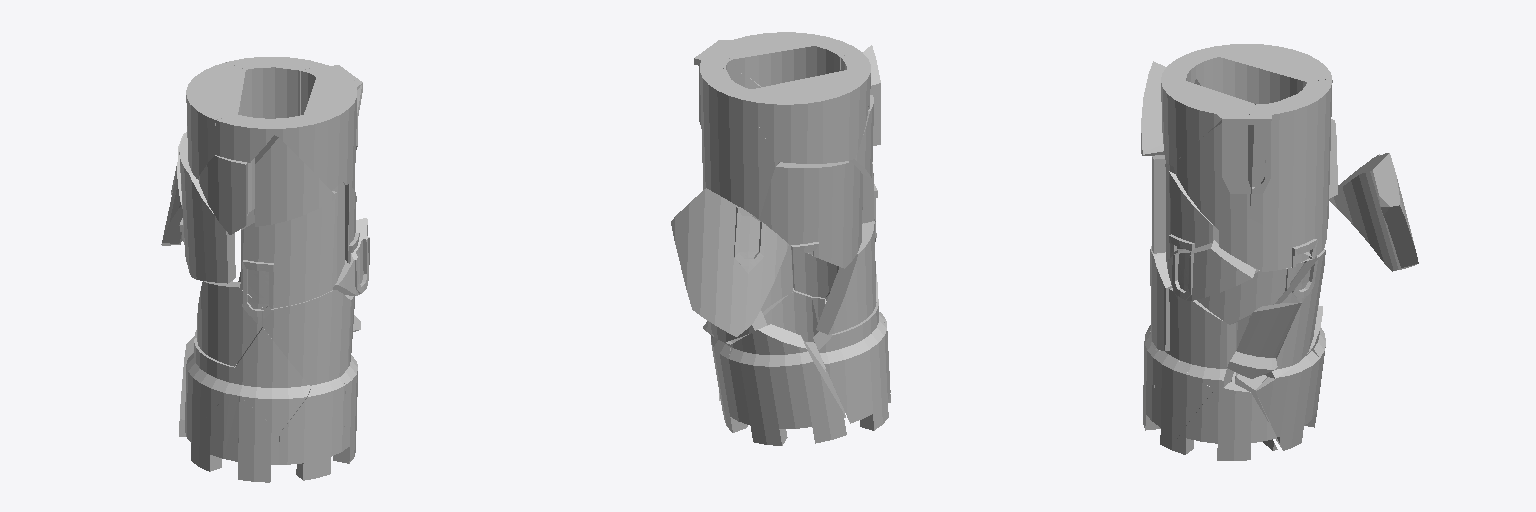
Rendered from destruction_tower_000027.obj.
3 renders of one model, left to right at view 1: azimuth 30°, elevation 25°; view 2: azimuth 150°, elevation 25°; view 3: azimuth 270°, elevation 25°, orthographic.
Visible parts, largest first — view 1: tower.001_cell.024_Mesh.024, tower.001_cell.021_Mesh.021, tower.001_cell.028_Mesh.028, tower.001_cell.006_Mesh.006, tower.001_cell.011_Mesh.011, tower.001_cell.002_Mesh.002, tower.001_cell.013_Mesh.013, tower.001_cell.003_Mesh.003, tower.001_cell.009_Mesh.009, tower.001_cell.017_Mesh.017, tower.001_cell.015_Mesh.015, tower.001_cell.014_Mesh.014 (+9 smaller); view 2: tower.001_cell.025_Mesh.025, tower.001_cell.007_Mesh.007, tower.001_cell.015_Mesh.015, tower.001_cell.003_Mesh.003, tower.001_cell.017_Mesh.017, tower.001_cell.028_Mesh.028, tower.001_cell.005_Mesh.005, tower.001_cell.009_Mesh.009, tower.001_cell.023_Mesh.023, tower.001_cell.021_Mesh.021, tower.001_cell.029_Mesh.029, tower.001_cell.006_Mesh.006 (+7 smaller); view 3: tower.001_cell.017_Mesh.017, tower.001_cell.020_Mesh.020, tower.001_cell.025_Mesh.025, tower.001_cell.015_Mesh.015, tower.001_cell.028_Mesh.028, tower.001_cell.030_Mesh.030, tower.001_cell_Mesh, tower.001_cell.029_Mesh.029, tower.001_cell.010_Mesh.010, tower.001_cell.023_Mesh.023, tower.001_cell.026_Mesh.026, tower.001_cell.016_Mesh.016 (+11 smaller).
Part boxes in pixels (x1,y1,x2,y2): tower.001_cell.024_Mesh.024: (240, 191, 336, 309); tower.001_cell.021_Mesh.021: (263, 290, 351, 387); tower.001_cell.028_Mesh.028: (268, 77, 362, 190); tower.001_cell.006_Mesh.006: (190, 392, 279, 482); tower.001_cell.011_Mesh.011: (279, 380, 345, 480); tower.001_cell.002_Mesh.002: (254, 135, 335, 226); tower.001_cell.013_Mesh.013: (234, 327, 310, 432); tower.001_cell.003_Mesh.003: (179, 132, 235, 283); tower.001_cell.009_Mesh.009: (197, 281, 263, 366); tower.001_cell.017_Mesh.017: (226, 57, 324, 215); tower.001_cell.015_Mesh.015: (186, 62, 245, 178); tower.001_cell.014_Mesh.014: (198, 155, 247, 234); tower.001_cell.025_Mesh.025: (671, 188, 788, 336); tower.001_cell.007_Mesh.007: (729, 324, 846, 445); tower.001_cell.015_Mesh.015: (746, 70, 868, 163); tower.001_cell.003_Mesh.003: (759, 161, 862, 268); tower.001_cell.017_Mesh.017: (700, 63, 779, 218); tower.001_cell.028_Mesh.028: (718, 32, 857, 86); tower.001_cell.005_Mesh.005: (813, 302, 887, 423); tower.001_cell.009_Mesh.009: (816, 221, 876, 334); tower.001_cell.023_Mesh.023: (764, 288, 824, 366); tower.001_cell.021_Mesh.021: (791, 246, 838, 297); tower.001_cell.029_Mesh.029: (711, 335, 745, 432); tower.001_cell.006_Mesh.006: (860, 321, 890, 430); tower.001_cell.017_Mesh.017: (1278, 79, 1332, 258); tower.001_cell.020_Mesh.020: (1173, 112, 1253, 229); tower.001_cell.025_Mesh.025: (1329, 153, 1418, 271); tower.001_cell.015_Mesh.015: (1219, 44, 1331, 103); tower.001_cell.028_Mesh.028: (1161, 63, 1255, 165); tower.001_cell.030_Mesh.030: (1170, 382, 1276, 460); tower.001_cell_Mesh: (1169, 288, 1235, 388); tower.001_cell.029_Mesh.029: (1255, 348, 1319, 450); tower.001_cell.010_Mesh.010: (1167, 240, 1255, 300); tower.001_cell.023_Mesh.023: (1154, 349, 1214, 448); tower.001_cell.026_Mesh.026: (1247, 102, 1277, 230); tower.001_cell.016_Mesh.016: (1227, 302, 1301, 378).
Size of the model in its own units: 49.44 by 96.54 by 69.25.